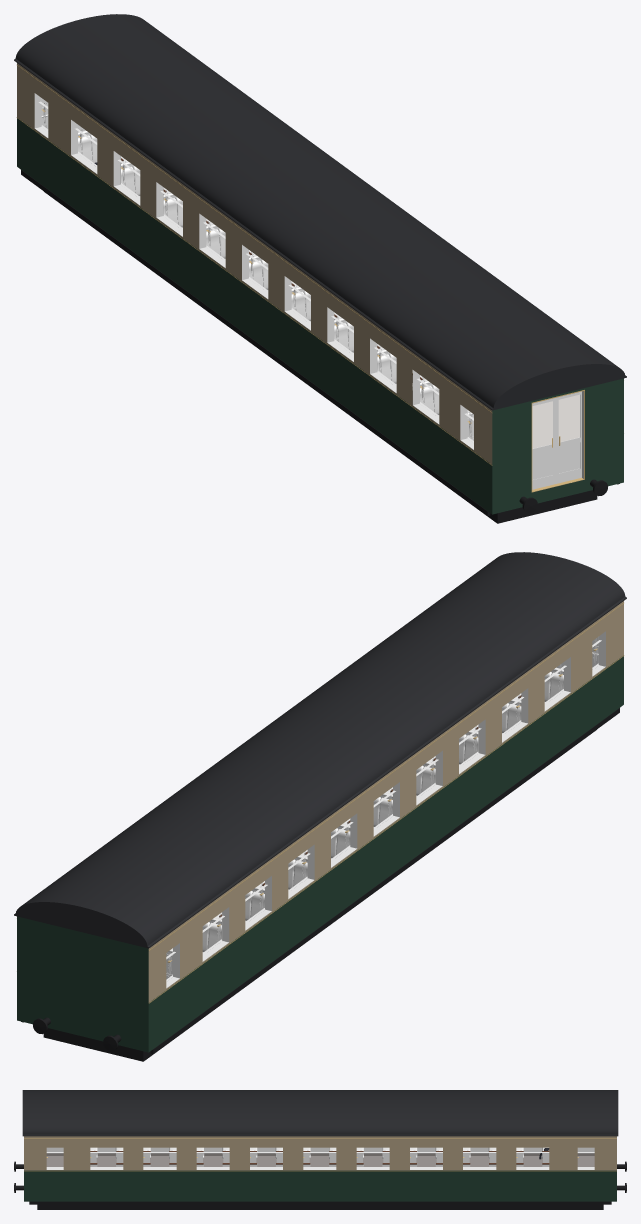
Rendered from train_carriage.glb.
3 renders of one model, top to bottom at view 1: azimuth 30°, elevation 25°; view 2: azimuth 150°, elevation 25°; view 3: azimuth 270°, elevation 25°, orthographic. The views are drawn at different scales.
Parts seen in each view (by area): view 1: exterior, interior, doorR, doorL; view 2: exterior, interior; view 3: exterior, interior.
Boxes of the visible parts, box(x1,y1,x2,y2) form: exterior: box(14, 14, 626, 523); interior: box(34, 93, 583, 492); doorR: box(556, 391, 581, 483); doorL: box(532, 398, 555, 489); exterior: box(14, 552, 626, 1061); interior: box(166, 631, 605, 988); exterior: box(14, 1090, 626, 1209); interior: box(46, 1147, 594, 1169).
Size of the model in its own units: 3.65 by 4.15 by 23.01.
